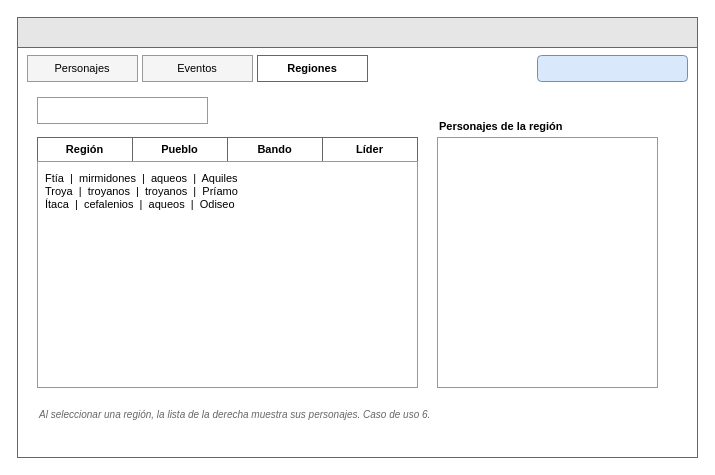
The diagram is 715 pixels wide and 475 high, and some of its shapes have lost their labels. Here are the shapes that lost their labels. From the top down, the centre of each, then its label:
point 357,32: WikiMythos
point 612,68: ☐ Modo administrador
point 122,110: Bando ▾
point 547,262: Aquiles Peleo Patroclo Fénix
